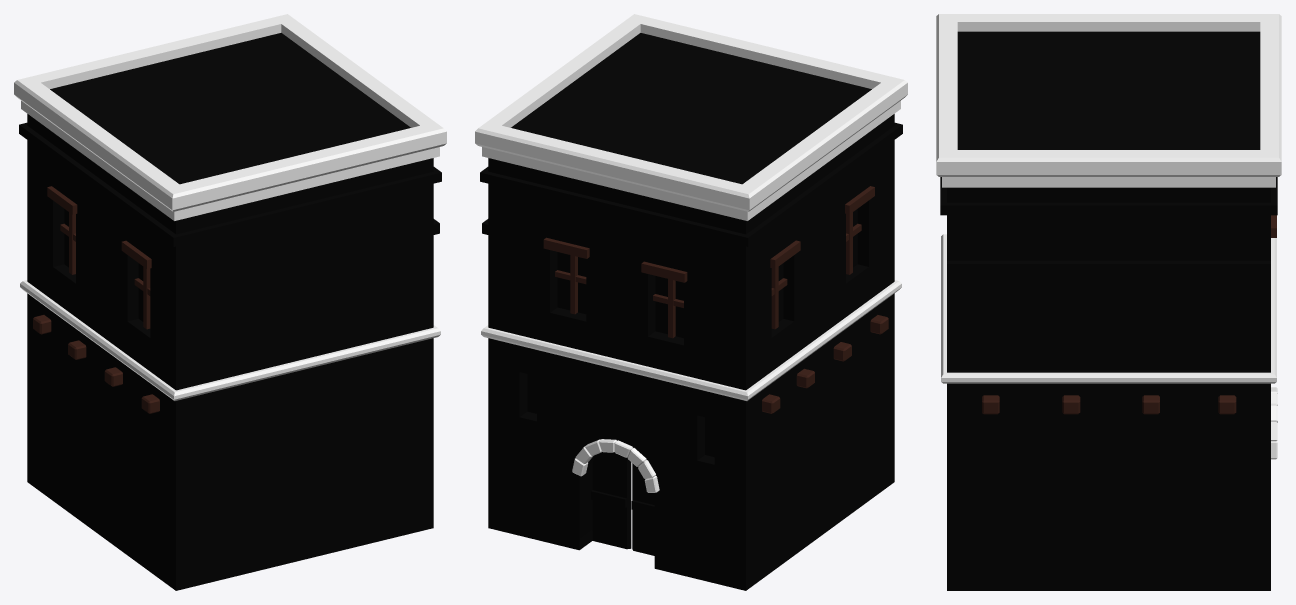
Rendered from civilian_house_27.FBX.
3 views of the same model, side by side, from view 1: azimuth 30°, elevation 25°; view 2: azimuth 150°, elevation 25°; view 3: azimuth 270°, elevation 25° (orthographic). The views are drawn at different scales.
Parts seen in each view (by area): view 1: civilian_house_27; view 2: civilian_house_27; view 3: civilian_house_27.
Boxes of the visible parts, <box> form: civilian_house_27: <box>14,14,446,590</box>; civilian_house_27: <box>475,14,907,590</box>; civilian_house_27: <box>936,14,1281,590</box>.
Size of the model in its own units: 597 by 818 by 586.
